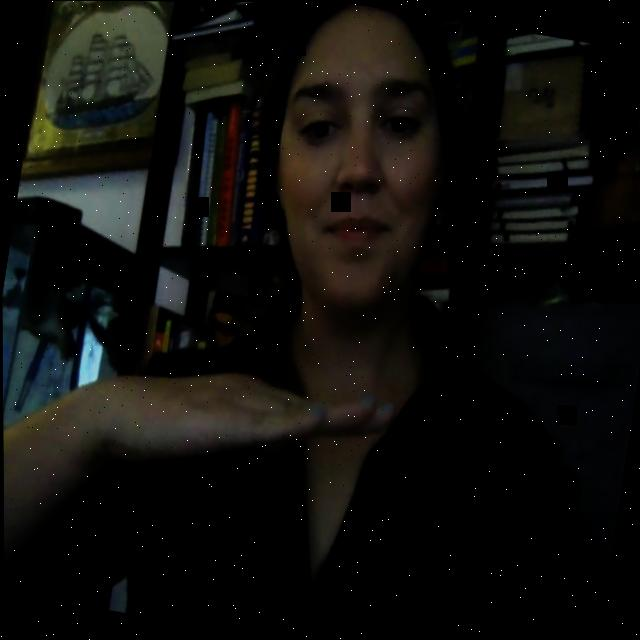Paper: (99, 335, 387, 521)
